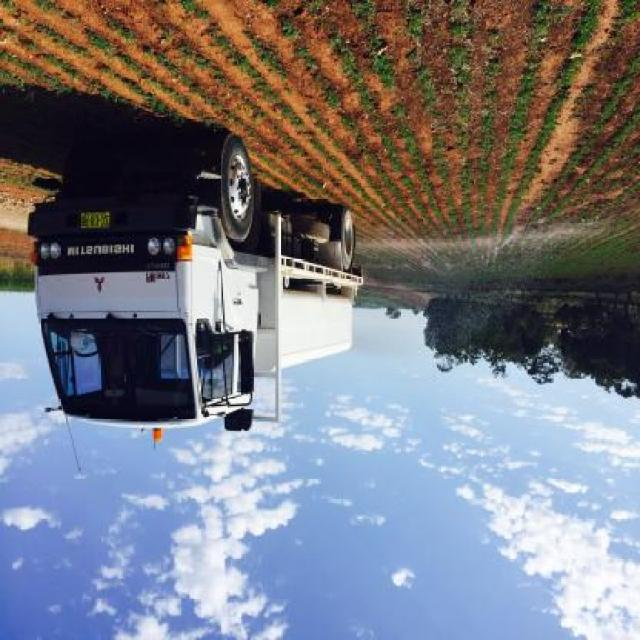truck: (26, 136, 368, 434)
